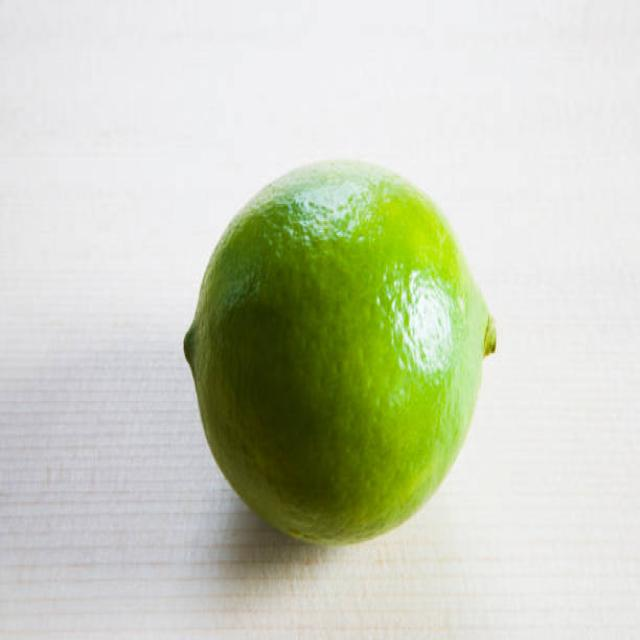Lemon: (180, 158, 499, 546)
